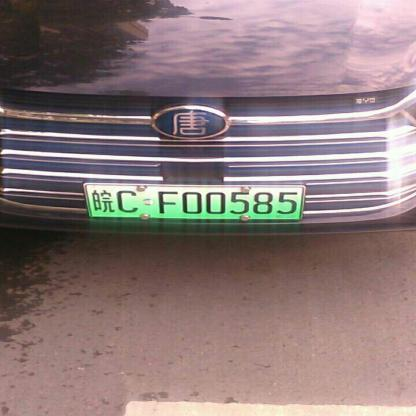lp: (84, 183, 302, 219)
